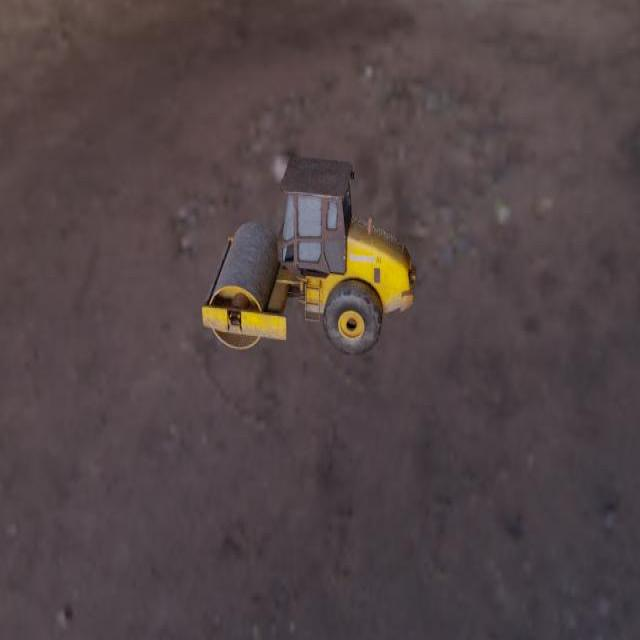Roller: (201, 155, 416, 356)
